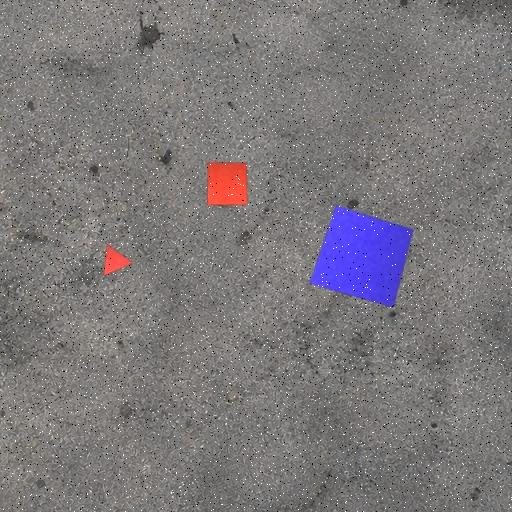BLUE_SQUARE: (309, 205, 414, 309)
RED_SQUARE: (206, 162, 248, 206)
